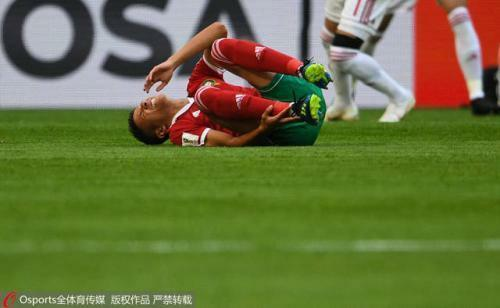Fall-Detected: (119, 13, 336, 152)
